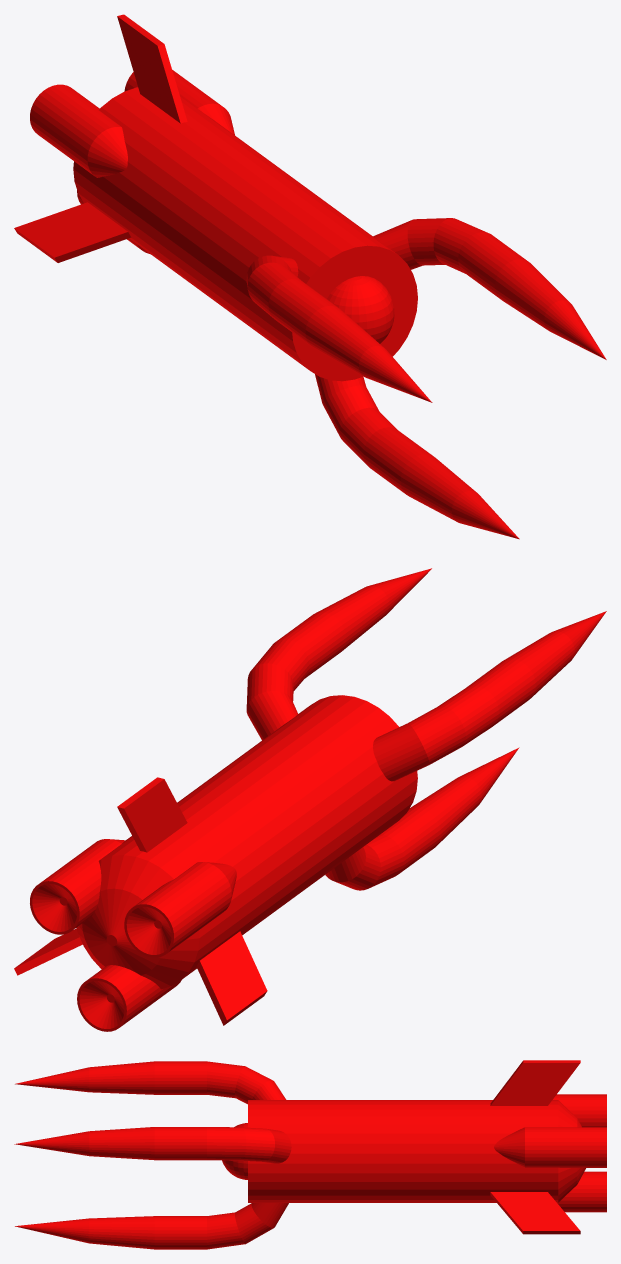
Rendered from BattleCruiser8472.fbx.
3 views of the same model, one above another, from view 1: azimuth 30°, elevation 25°; view 2: azimuth 150°, elevation 25°; view 3: azimuth 270°, elevation 25° (orthographic). The views are drawn at different scales.
Parts seen in each view (by area): view 1: Cylinder; view 2: Cylinder; view 3: Cylinder.
Part boxes in pixels (x1,y1,x2,y2): Cylinder: [14, 14, 606, 539]; Cylinder: [14, 568, 606, 1031]; Cylinder: [14, 1060, 606, 1249].
Size of the model in its own units: 65.72 by 71.59 by 207.
